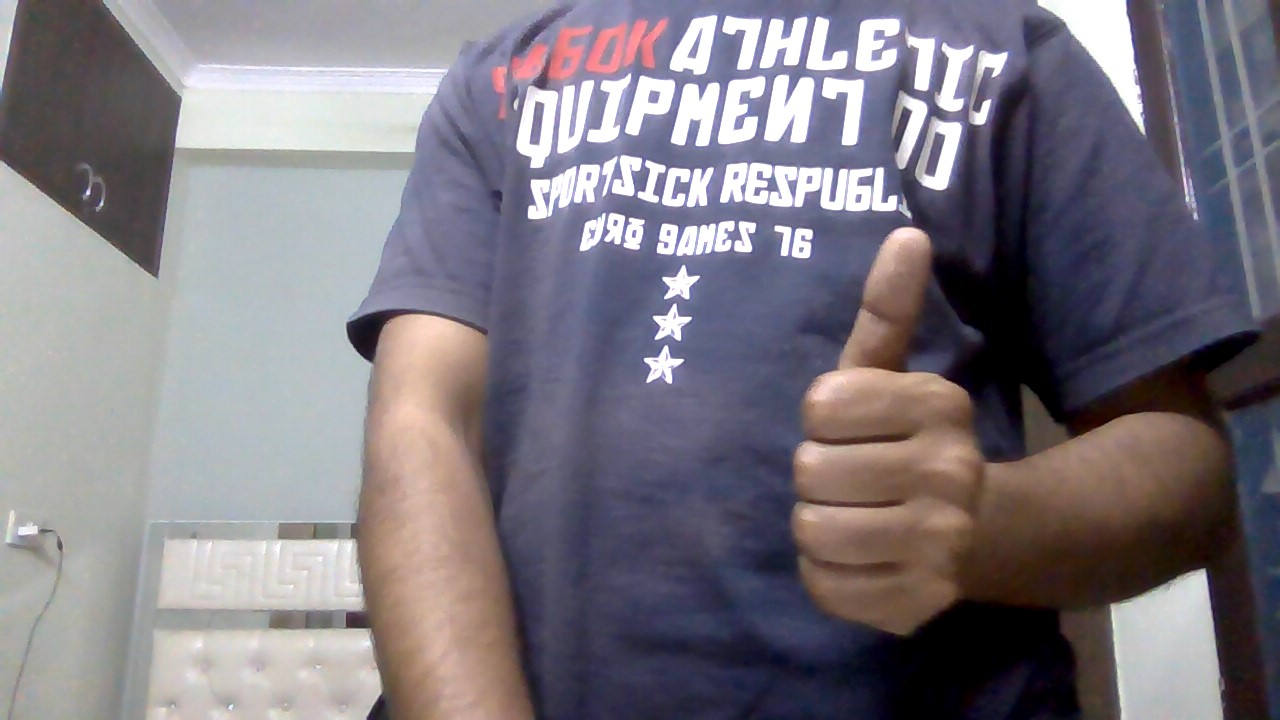Save: (778, 221, 1004, 665)
